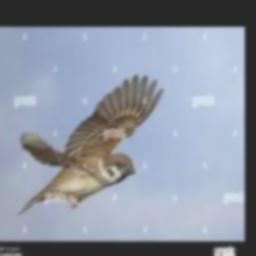Sparrow: (17, 75, 165, 216)
